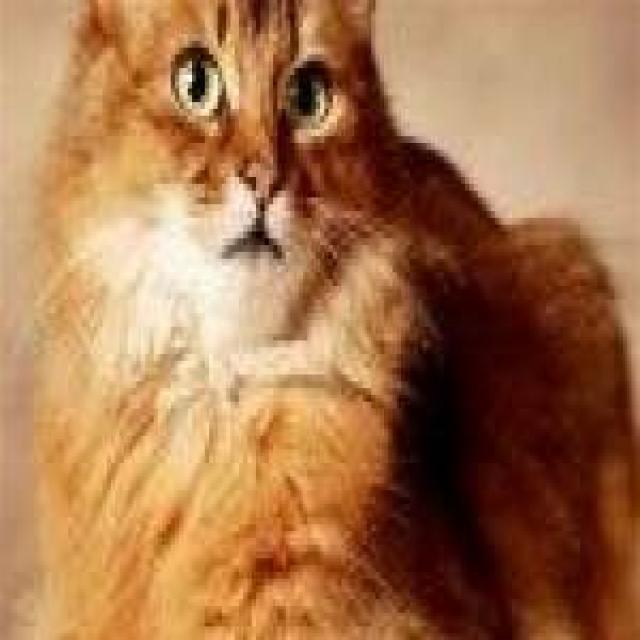animal: (18, 5, 633, 620)
